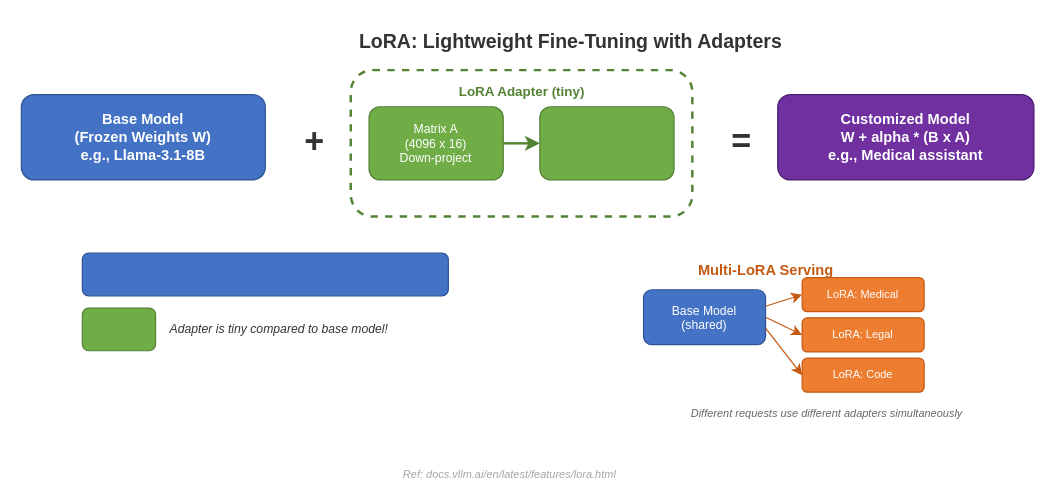
This 1055x503 diagram has some shape labels left out. Each missing label, with the centre of its shape:
"Base: 16 GB" belongs at [264,274].
"LoRA: ~50 MB (0.3%)" belongs at [118,329].
"Matrix B (16 x 4096) Up-project" belongs at [606,143].
